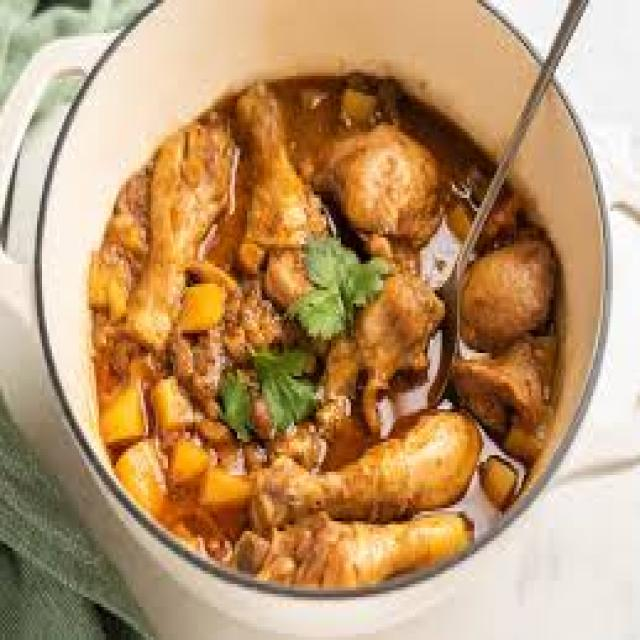Frango: (94, 63, 561, 577)
